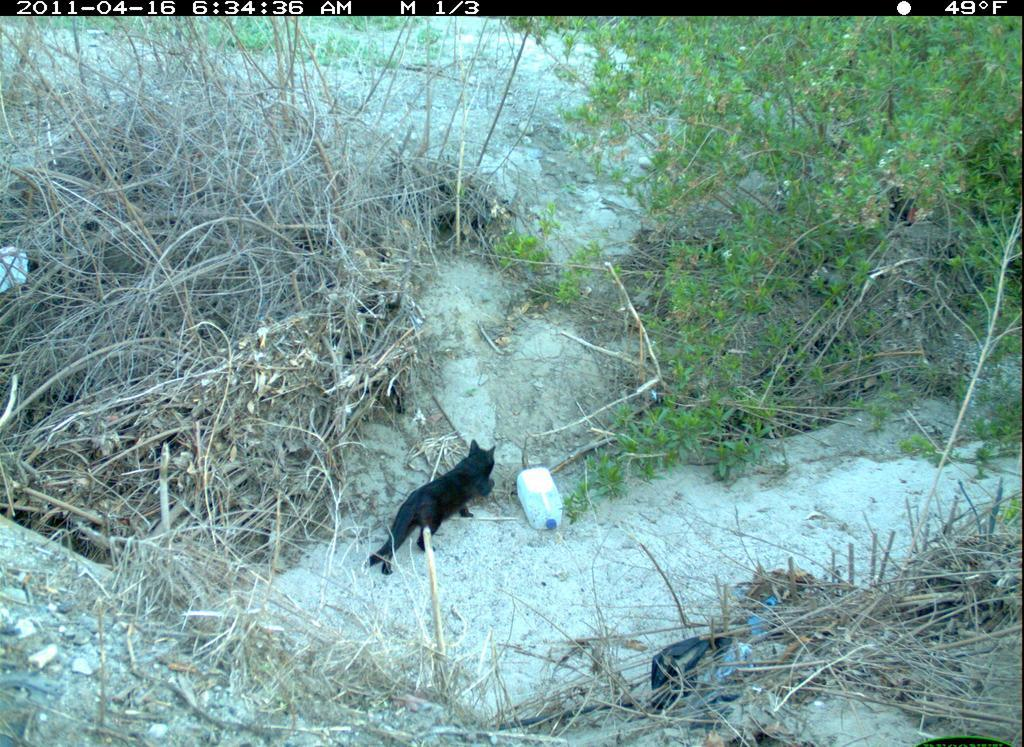cat: (353, 431, 509, 579)
